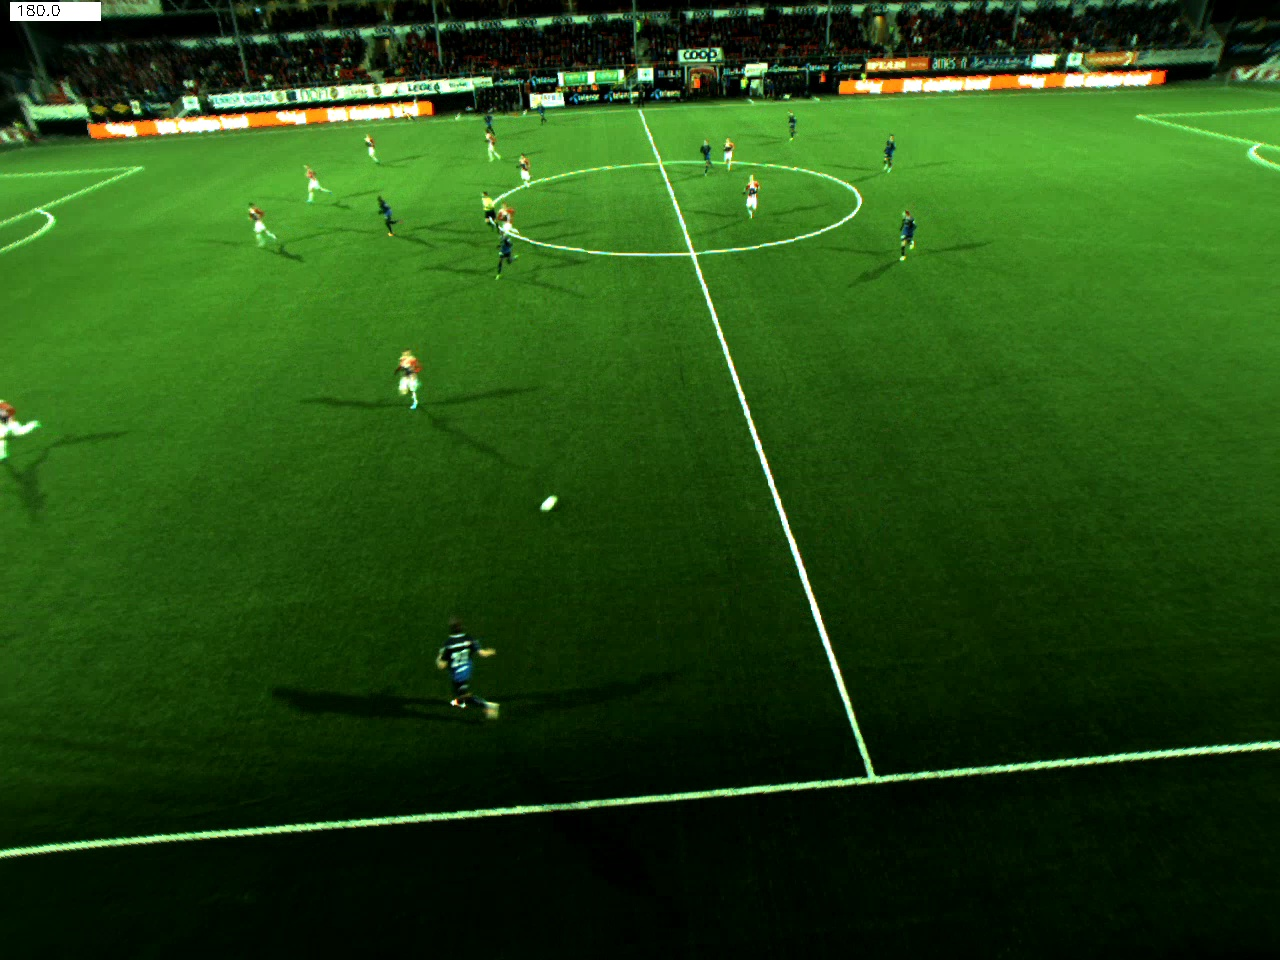blue: (421, 612, 499, 719), (370, 184, 417, 239), (896, 207, 924, 274), (480, 113, 510, 144), (494, 234, 521, 266), (698, 137, 720, 175), (887, 135, 903, 178), (530, 105, 558, 127), (784, 110, 803, 139)
red: (1, 389, 38, 492), (237, 195, 292, 248), (394, 346, 421, 419), (295, 162, 335, 205), (359, 134, 396, 170), (495, 205, 533, 239), (514, 153, 538, 199), (739, 170, 759, 223), (723, 132, 738, 175)
yellow: (473, 184, 495, 228)
